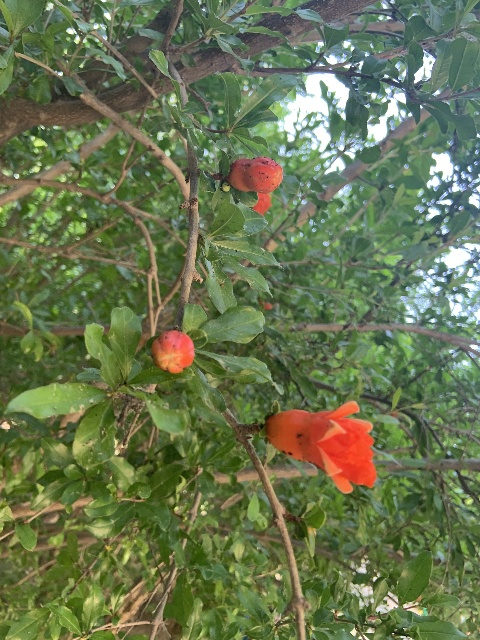bud: (228, 156, 282, 193), (151, 329, 194, 373)
flower: (266, 400, 376, 493), (251, 191, 272, 216)
